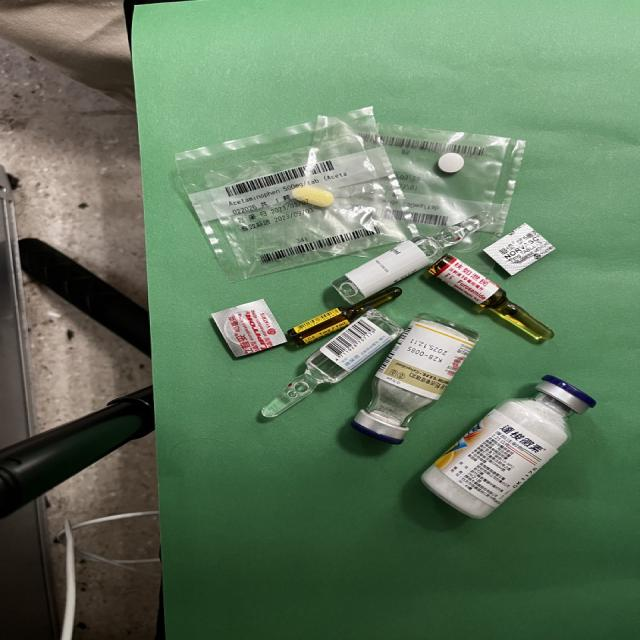Ampoules: (261, 309, 403, 417), (332, 211, 493, 305), (427, 254, 555, 340), (287, 287, 402, 346)
Vials: (420, 375, 597, 522), (351, 312, 480, 445)
